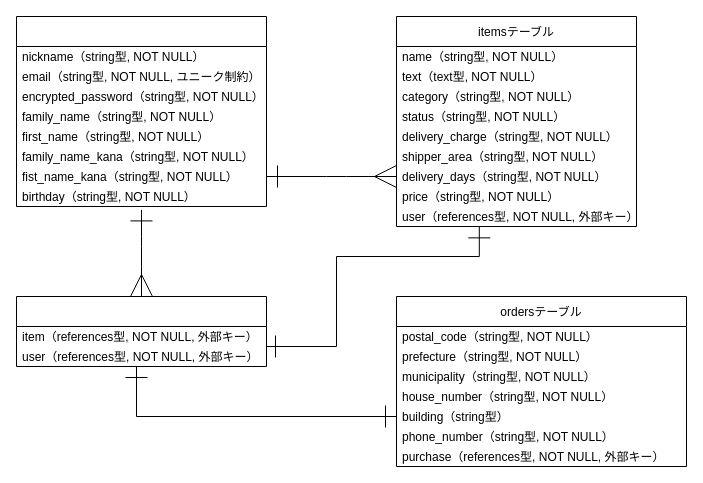
The diagram is 703 pixels wide and 483 high, and some of its shapes have lost their labels. The shapes that lost their labels are listed below. From the top down, each one's box as (x1, y1, x2, y2) in pixels, then its label:
(16, 16, 266, 206): usersテーブル
(16, 296, 266, 366): purchasesテーブル
